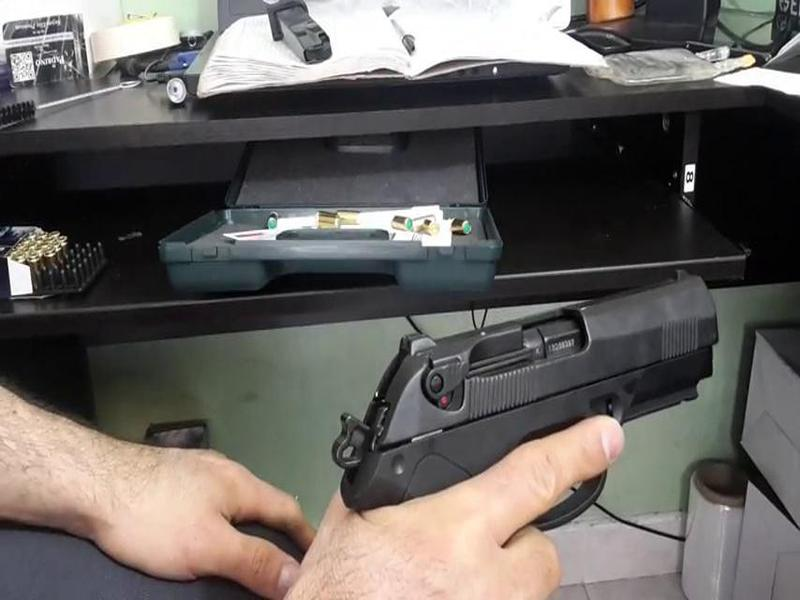Pistola: (327, 261, 756, 546)
